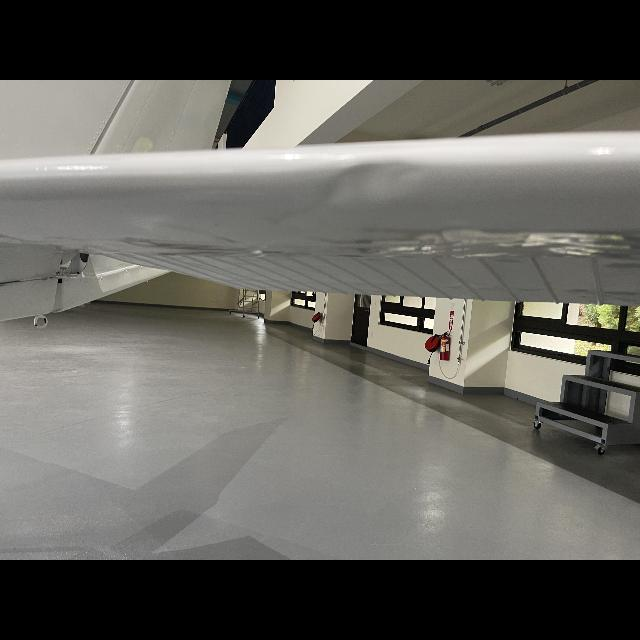dent: (311, 157, 444, 199)
